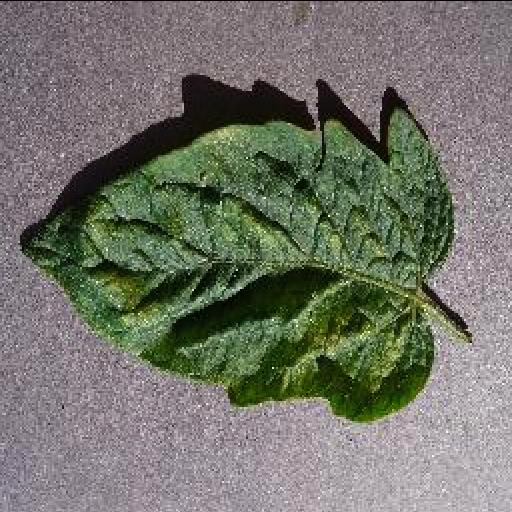disease_tomato: (18, 106, 456, 422)
